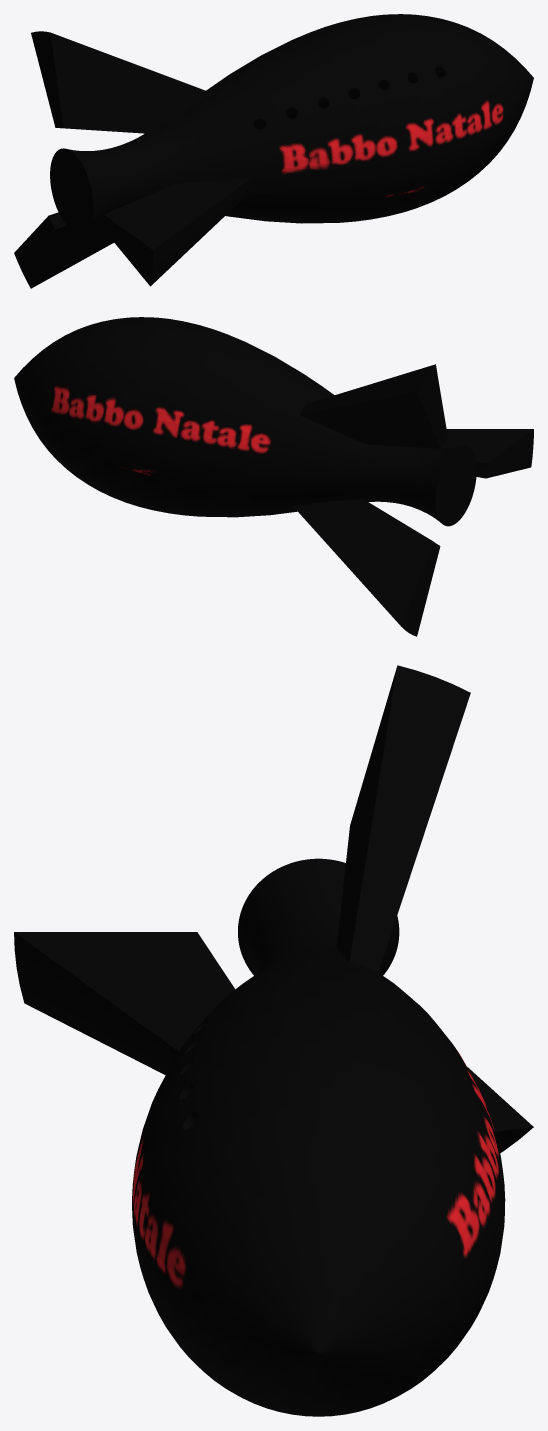
File: RazzoGialloOk3D.glb
3 renders of one model, top to bottom at view 1: azimuth 30°, elevation 25°; view 2: azimuth 150°, elevation 25°; view 3: azimuth 270°, elevation 25°, orthographic. The views are drawn at different scales.
Visible parts, largest first — view 1: node_id5; view 2: node_id5; view 3: node_id5.
Part boxes in pixels (left/top/right/bottom): node_id5: left=14, top=14, right=533, bottom=288; node_id5: left=14, top=317, right=533, bottom=636; node_id5: left=14, top=665, right=533, bottom=1416.
Size of the model in its own units: 0.4542 by 0.2542 by 0.2369.
Materials: 1 (1 with a texture image).
